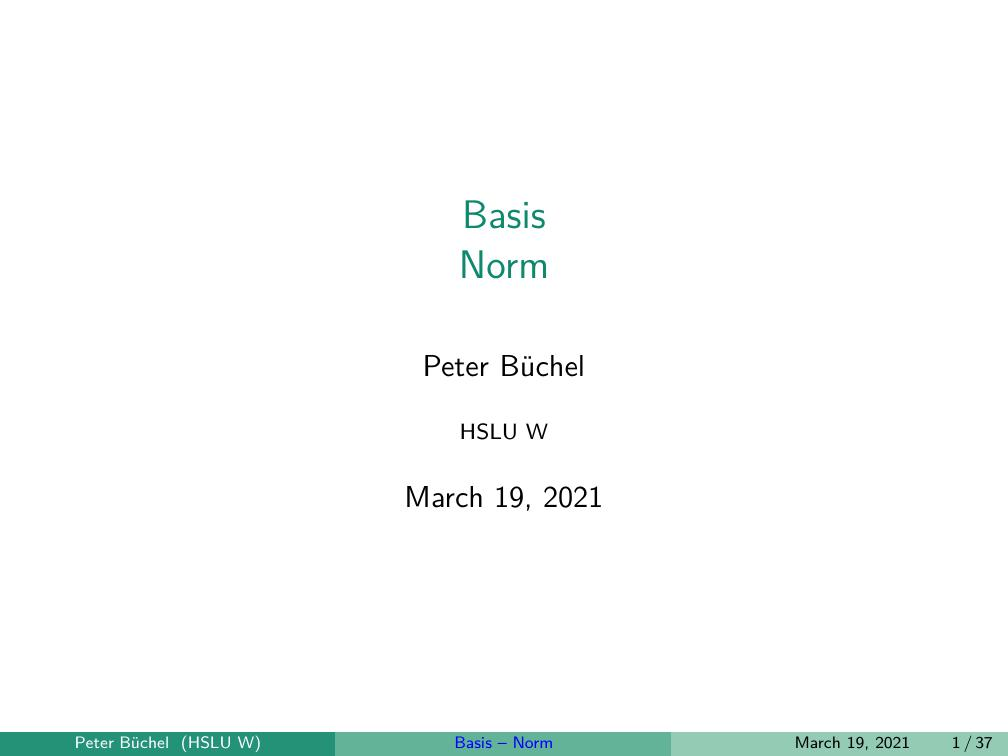Title: (441, 180, 568, 290)
